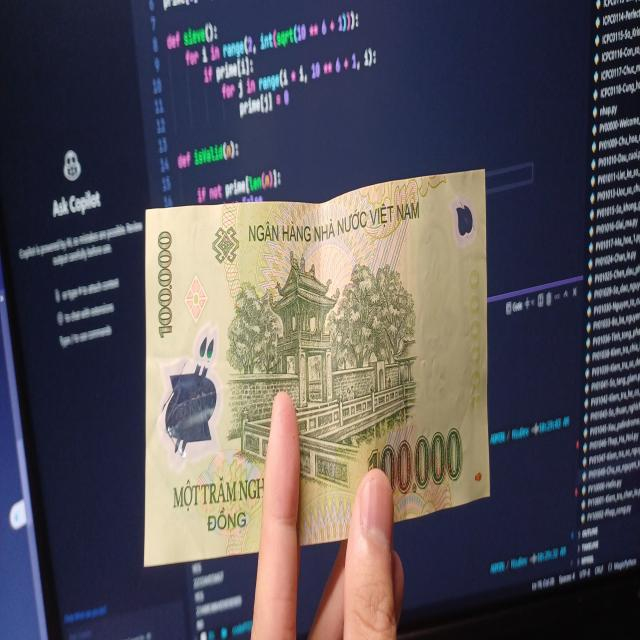100 000 VND: (142, 163, 492, 573)
